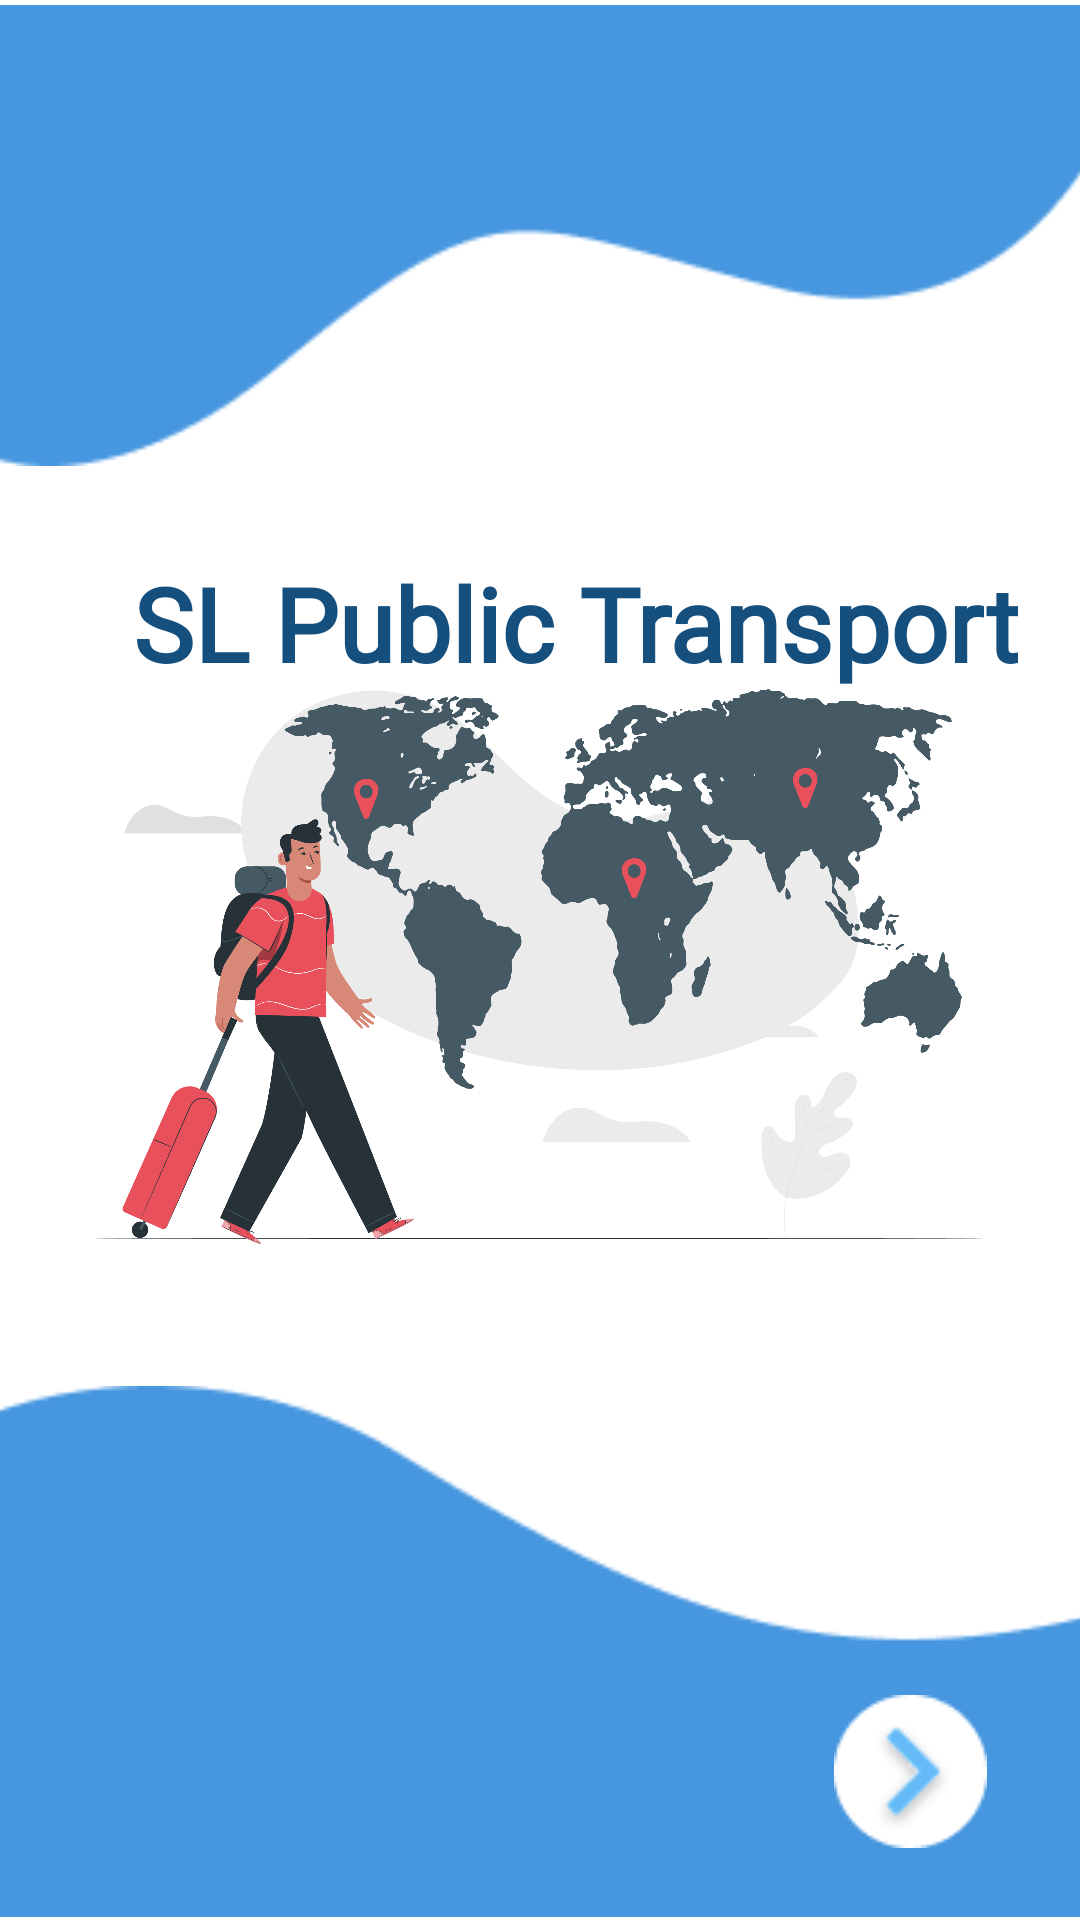

Screen size 1080x1920. Icon name, then its center in pixels as [x,y]:
next: [910,1771]
